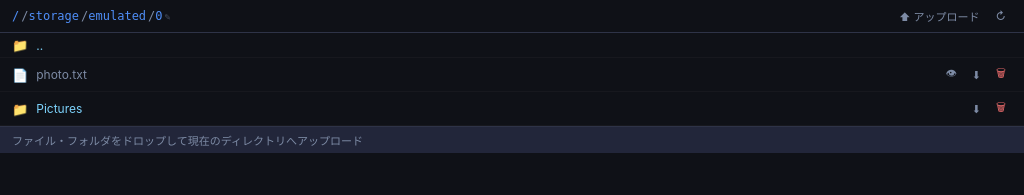
Test case: FileExplorer production component › deletes exactly once without asking and refreshes on success
This screenshot has width=1024, height=195.
Expected: the text "photo.txt" is shown, [36, 67, 87, 82]
Step 1. Click the button titled "削除" in the row of "photo.txt" → click(1001, 74), box [990, 62, 1012, 87]
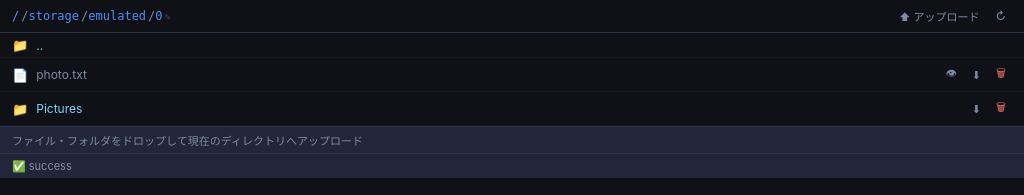
Now the text "✅ success" is shown, box [0, 153, 1023, 178]
